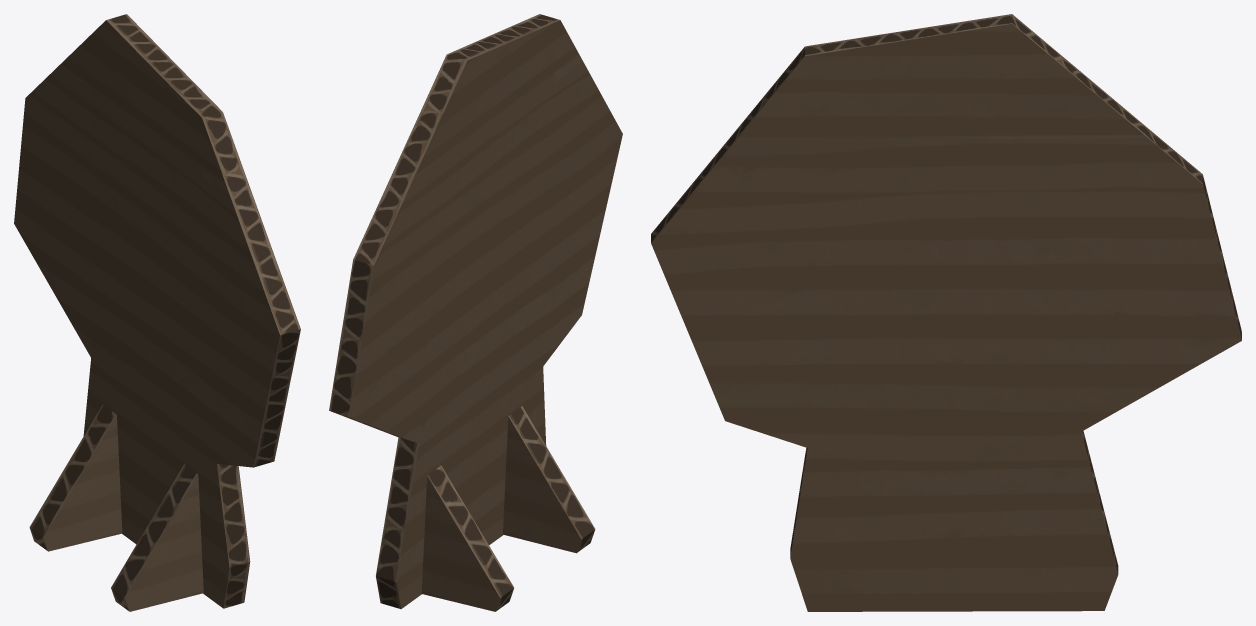
Rendered from tree.fbx.
3 views of the same model, side by side, from view 1: azimuth 30°, elevation 25°; view 2: azimuth 150°, elevation 25°; view 3: azimuth 270°, elevation 25° (orthographic). The views are drawn at different scales.
Parts seen in each view (by area): view 1: pCube8; view 2: pCube8; view 3: pCube8.
Boxes of the visible parts, left/top/right/bottom form: pCube8: left=14, top=14, right=300, bottom=611; pCube8: left=329, top=14, right=622, bottom=611; pCube8: left=651, top=14, right=1241, bottom=611.
Size of the model in its own units: 0.8567 by 4.33 by 4.02.
Materials: 1 (1 with a texture image).
